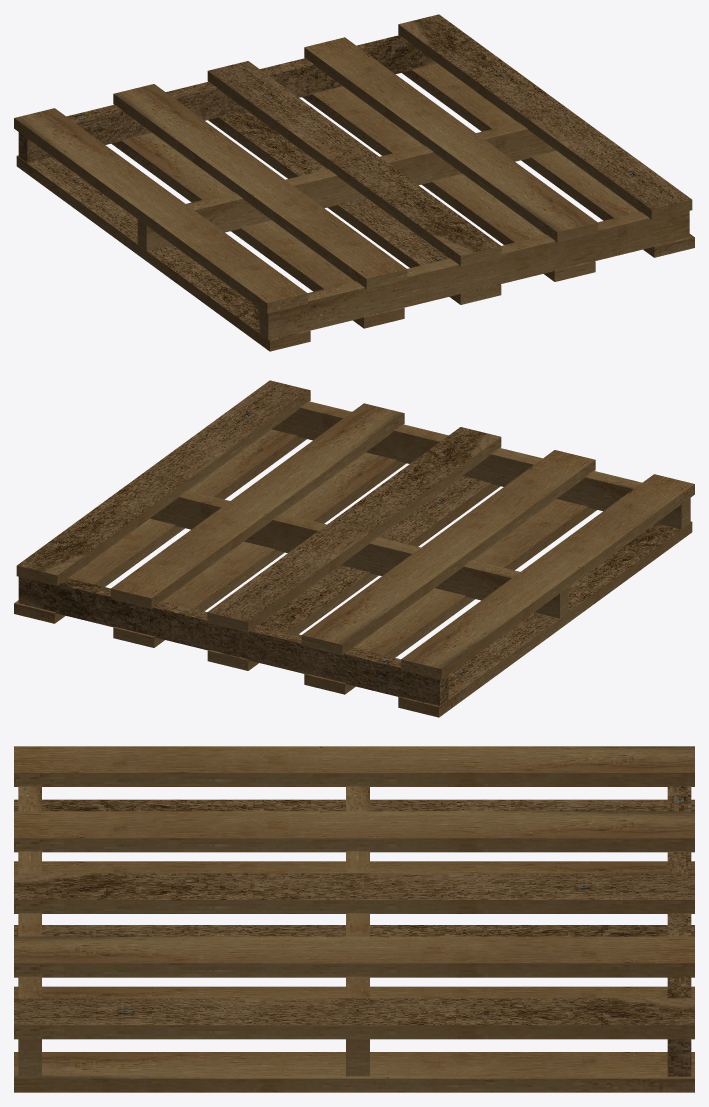
The model's file is woodpallet.glb.
3 views of the same model, one above another, from view 1: azimuth 30°, elevation 25°; view 2: azimuth 150°, elevation 25°; view 3: azimuth 270°, elevation 25° (orthographic). The views are drawn at different scales.
Parts seen in each view (by area): view 1: TB; view 2: TB; view 3: TB.
Boxes of the visible parts, bbox=[...] form: TB: bbox=[14, 14, 694, 351]; TB: bbox=[14, 380, 694, 717]; TB: bbox=[14, 746, 694, 1092].
Bounding box in the file's own units: 1.53 × 0.1676 × 1.57.
1 material, 1 textured.
